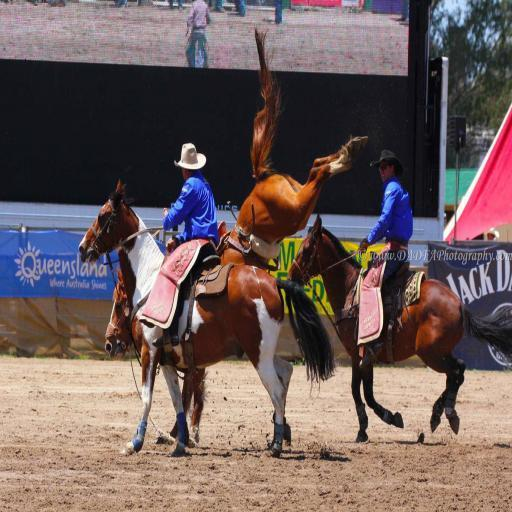horse: (102, 22, 369, 446), (76, 180, 338, 462), (284, 212, 511, 444)
